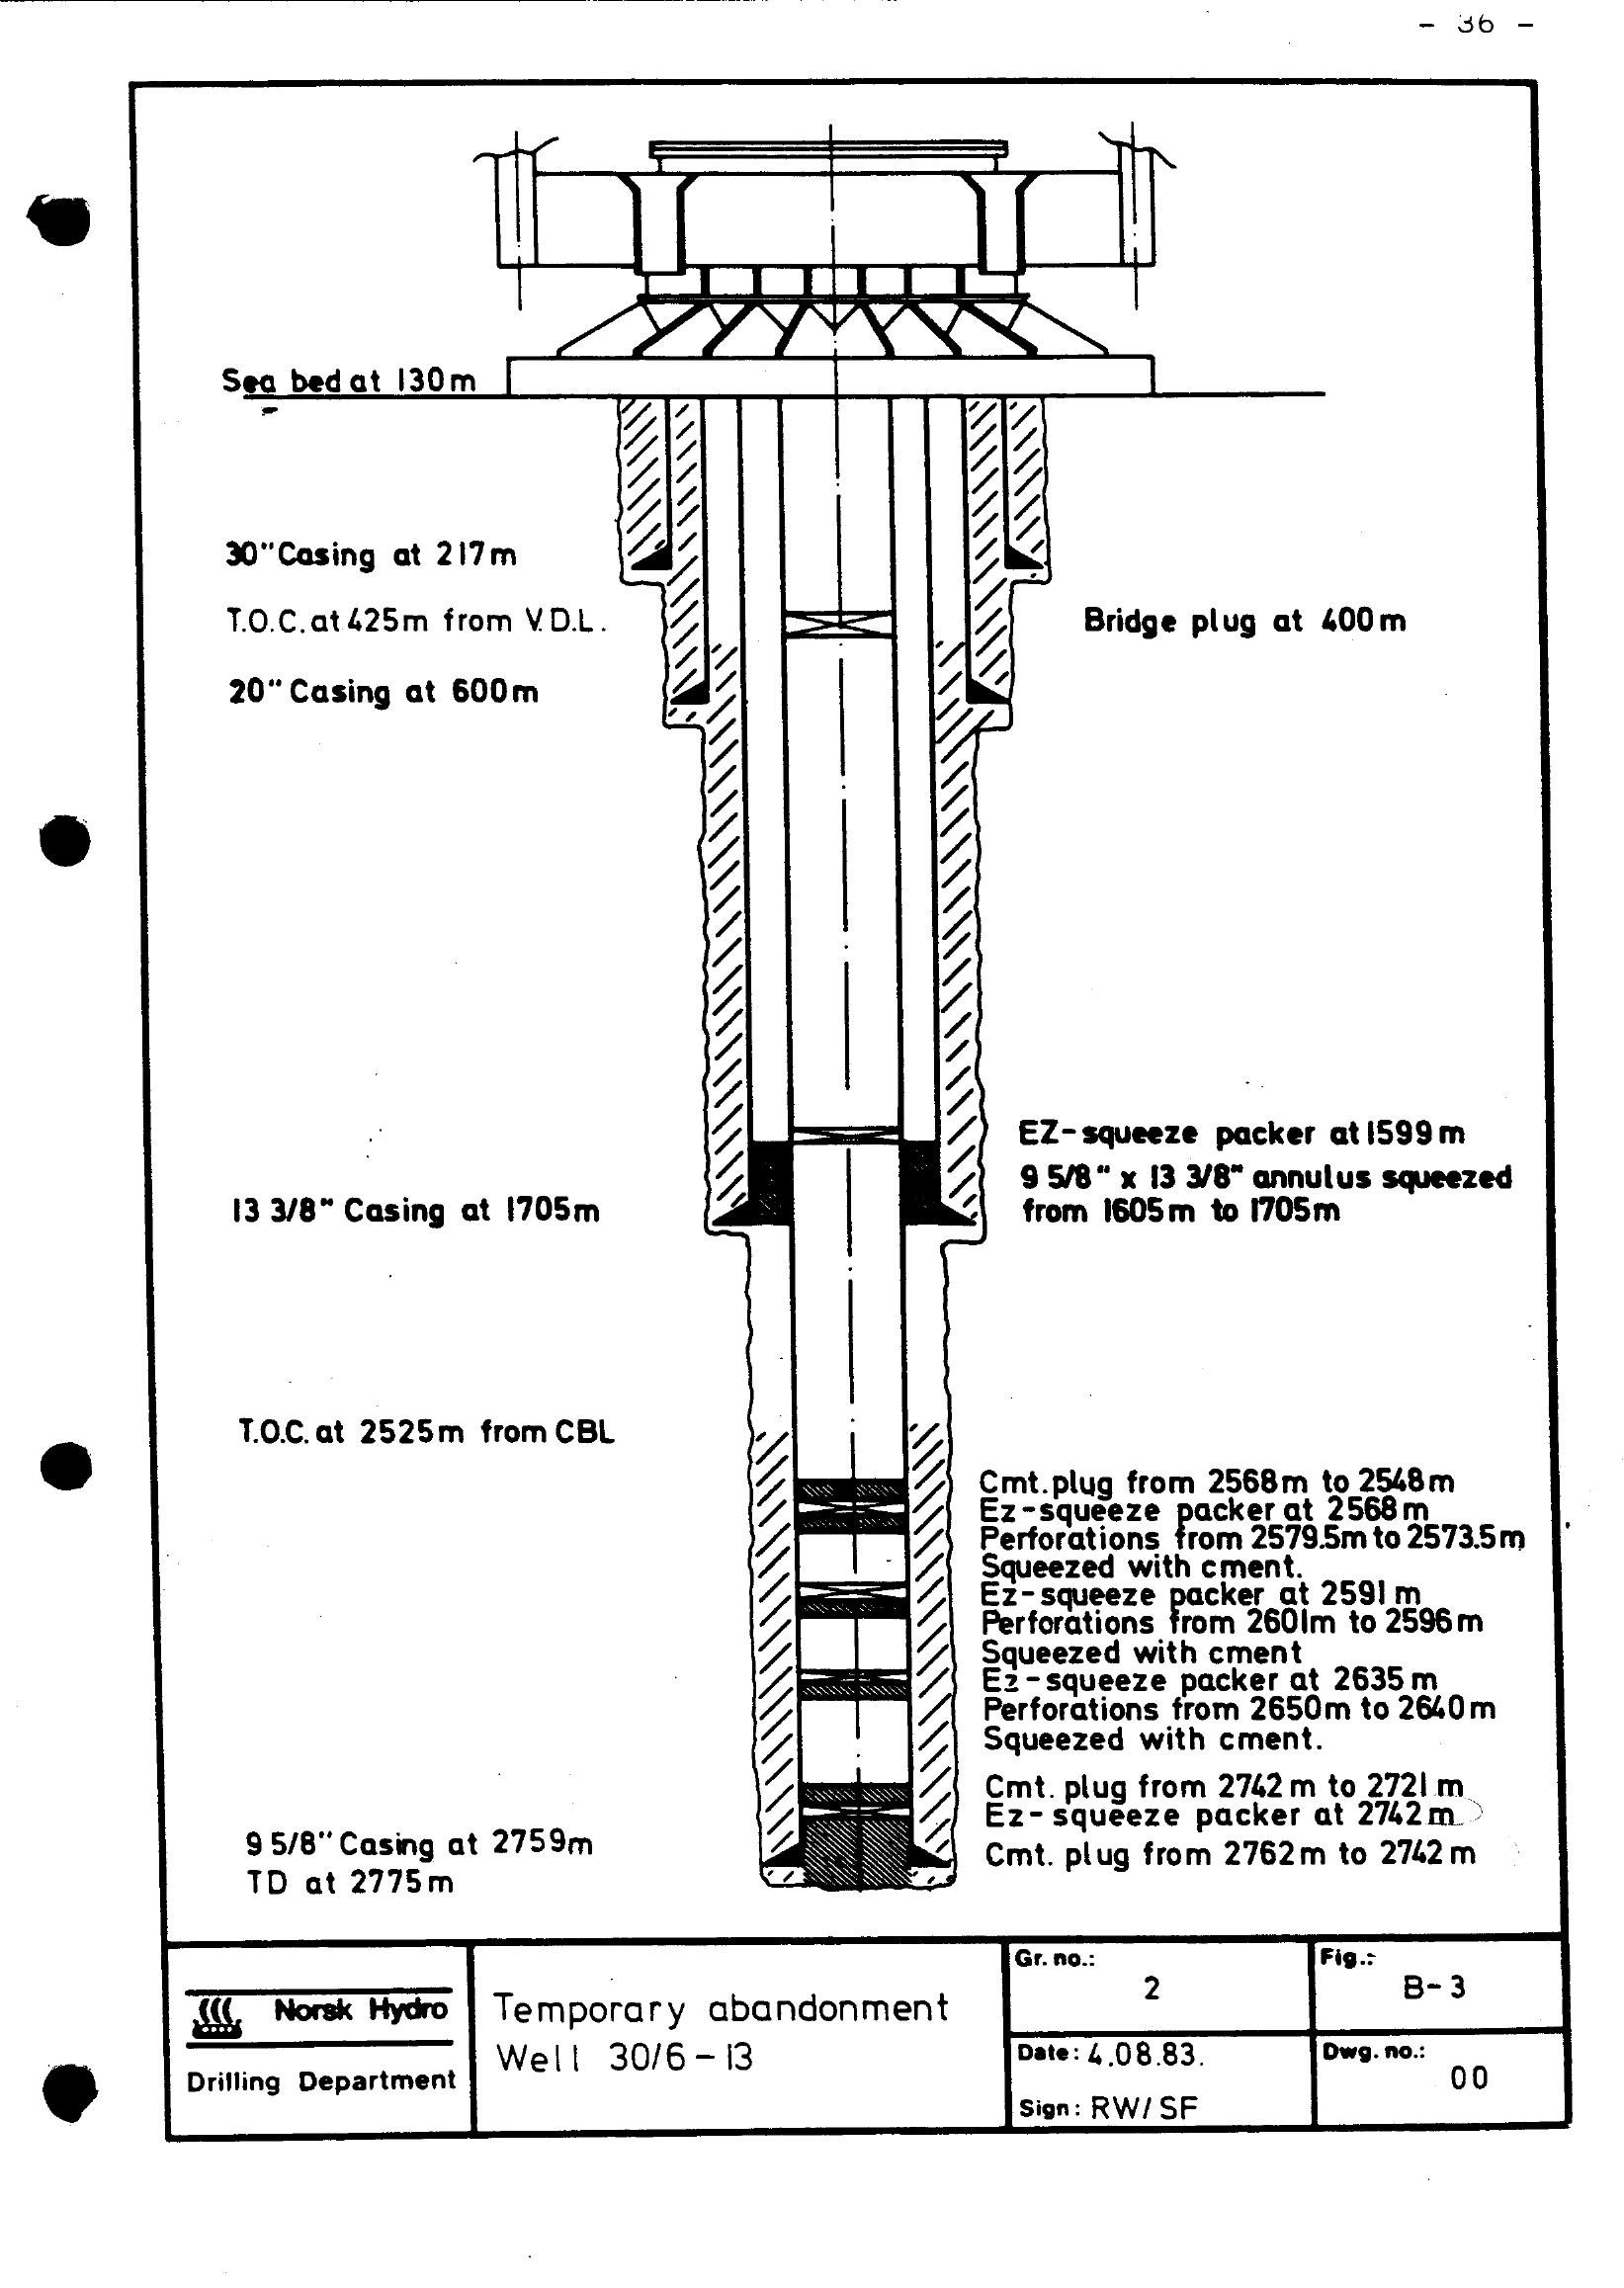graph: (112, 69, 1622, 2179)
